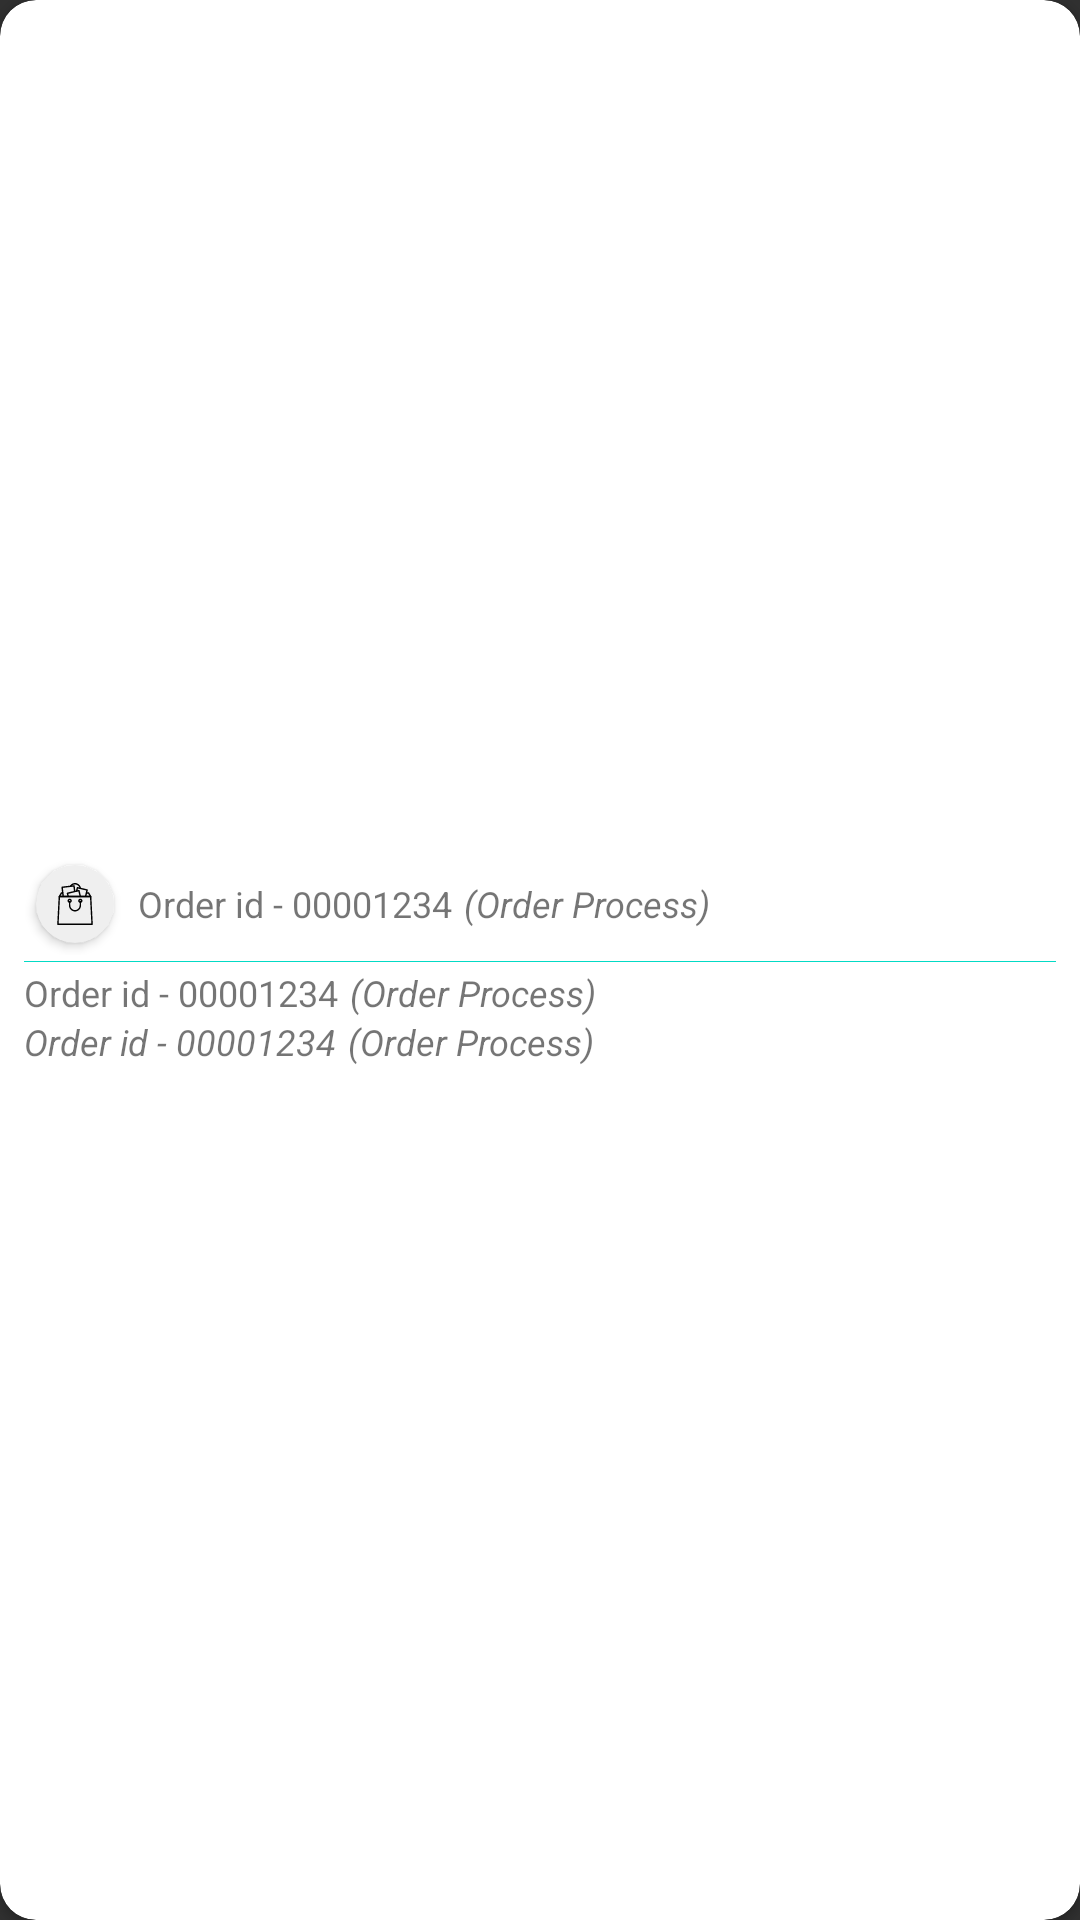

Where to tap for icons on this 1080px x 1920px app screen, as (x=x, y=y):
shopping: (x=75, y=904)
